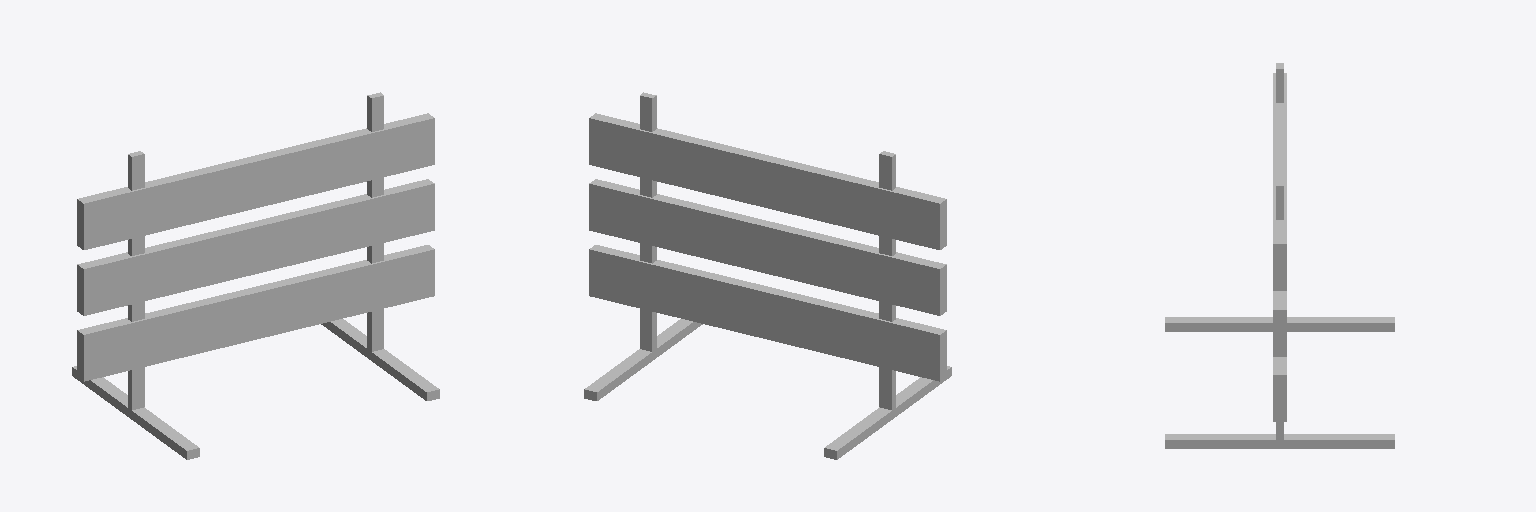
The model's file is TrafficBarrier_1.obj.
3 renders of one model, left to right at view 1: azimuth 30°, elevation 25°; view 2: azimuth 150°, elevation 25°; view 3: azimuth 270°, elevation 25°, orthographic.
Visible parts, largest first — view 1: TrafficBarrier_1_Plane.014; view 2: TrafficBarrier_1_Plane.014; view 3: TrafficBarrier_1_Plane.014.
Part boxes in pixels (bbox=[...]): TrafficBarrier_1_Plane.014: bbox=[72, 92, 439, 459]; TrafficBarrier_1_Plane.014: bbox=[584, 92, 951, 459]; TrafficBarrier_1_Plane.014: bbox=[1165, 63, 1394, 448].
Size of the model in its own units: 1.56 by 1.11 by 0.8806.